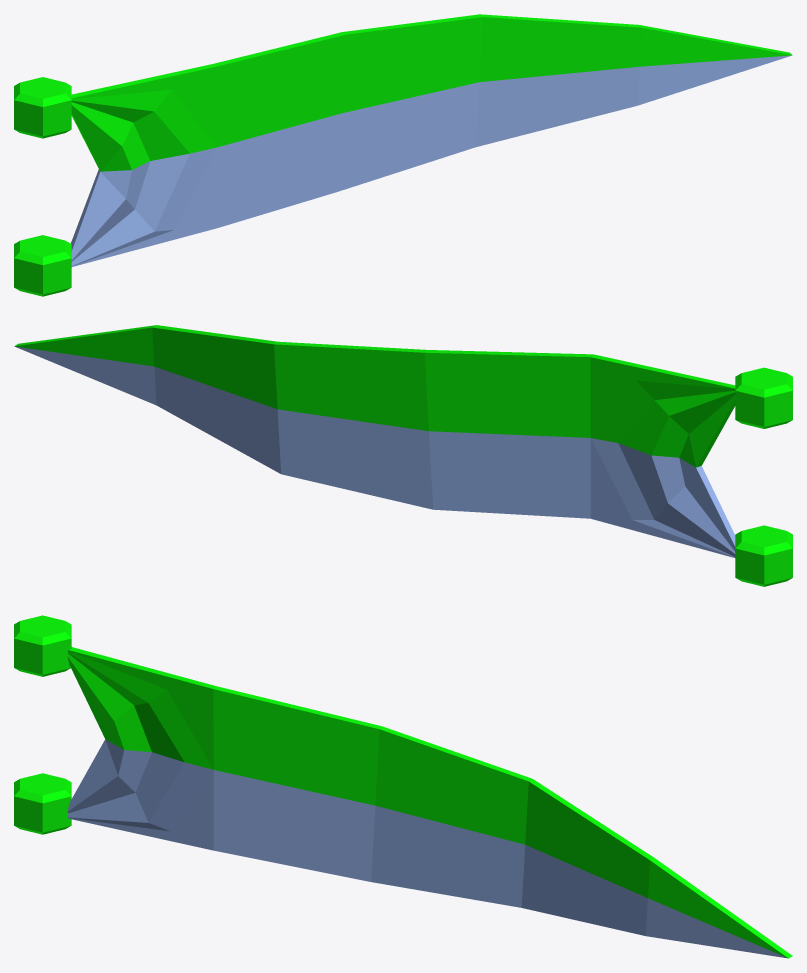
The model's file is SM_Flag_Thin_B_Fantasy.fbx.
3 views of the same model, one above another, from view 1: azimuth 30°, elevation 25°; view 2: azimuth 150°, elevation 25°; view 3: azimuth 330°, elevation 25° (orthographic).
Parts seen in each view (by area): view 1: flag-thin-b-fantasy; view 2: flag-thin-b-fantasy; view 3: flag-thin-b-fantasy.
Boxes of the visible parts, x1=… form: flag-thin-b-fantasy: x1=14, y1=14, x2=792, y2=296; flag-thin-b-fantasy: x1=14, y1=325, x2=792, y2=586; flag-thin-b-fantasy: x1=14, y1=615, x2=792, y2=958.
Size of the model in its own units: 1.21 by 0.2938 by 0.1115.
